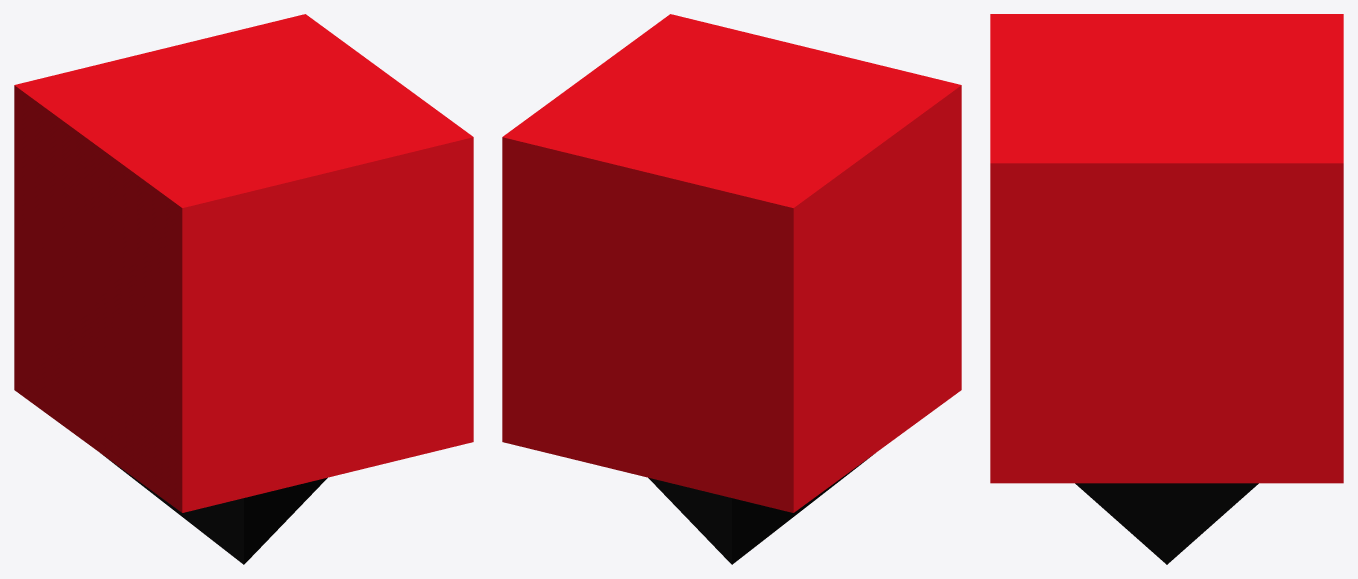
The model's file is pin_poi.gltf.
3 renders of one model, left to right at view 1: azimuth 30°, elevation 25°; view 2: azimuth 150°, elevation 25°; view 3: azimuth 270°, elevation 25°, orthographic. The views are drawn at different scales.
Visible parts, largest first — view 1: Cube; view 2: Cube; view 3: Cube.
Boxes of the visible parts, x1,y1,x2,y2 form: Cube: (14,14,473,564); Cube: (502,14,961,564); Cube: (990,14,1343,564).
Size of the model in its own units: 2 by 2.98 by 2.
